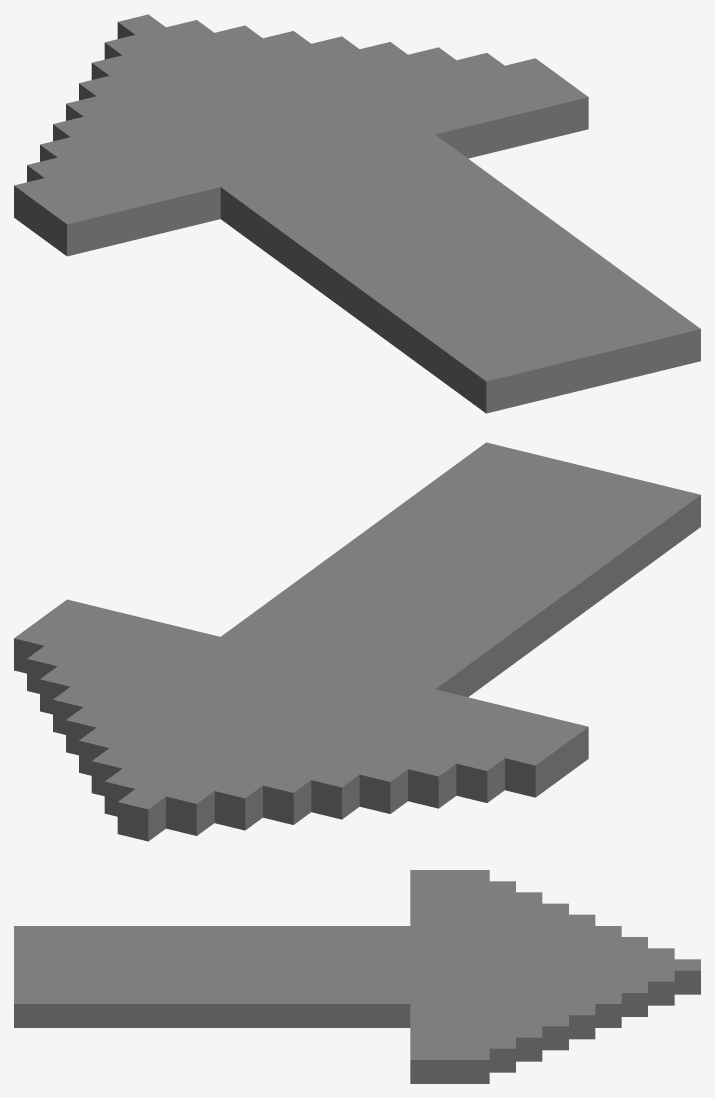
Rendered from panel-1.obj.
The picture shows the model from 3 angles, top to bottom: view 1: azimuth 30°, elevation 25°; view 2: azimuth 150°, elevation 25°; view 3: azimuth 270°, elevation 25°; orthographic projection. The views are drawn at different scales.
Visible parts, largest first — view 1: panel-1; view 2: panel-1; view 3: panel-1.
Boxes of the visible parts, bbox=[...] form: panel-1: bbox=[14, 14, 700, 413]; panel-1: bbox=[14, 442, 700, 841]; panel-1: bbox=[14, 870, 700, 1083].
Bounding box in the file's own units: 17 × 1 × 26.
1 material, 1 textured.
